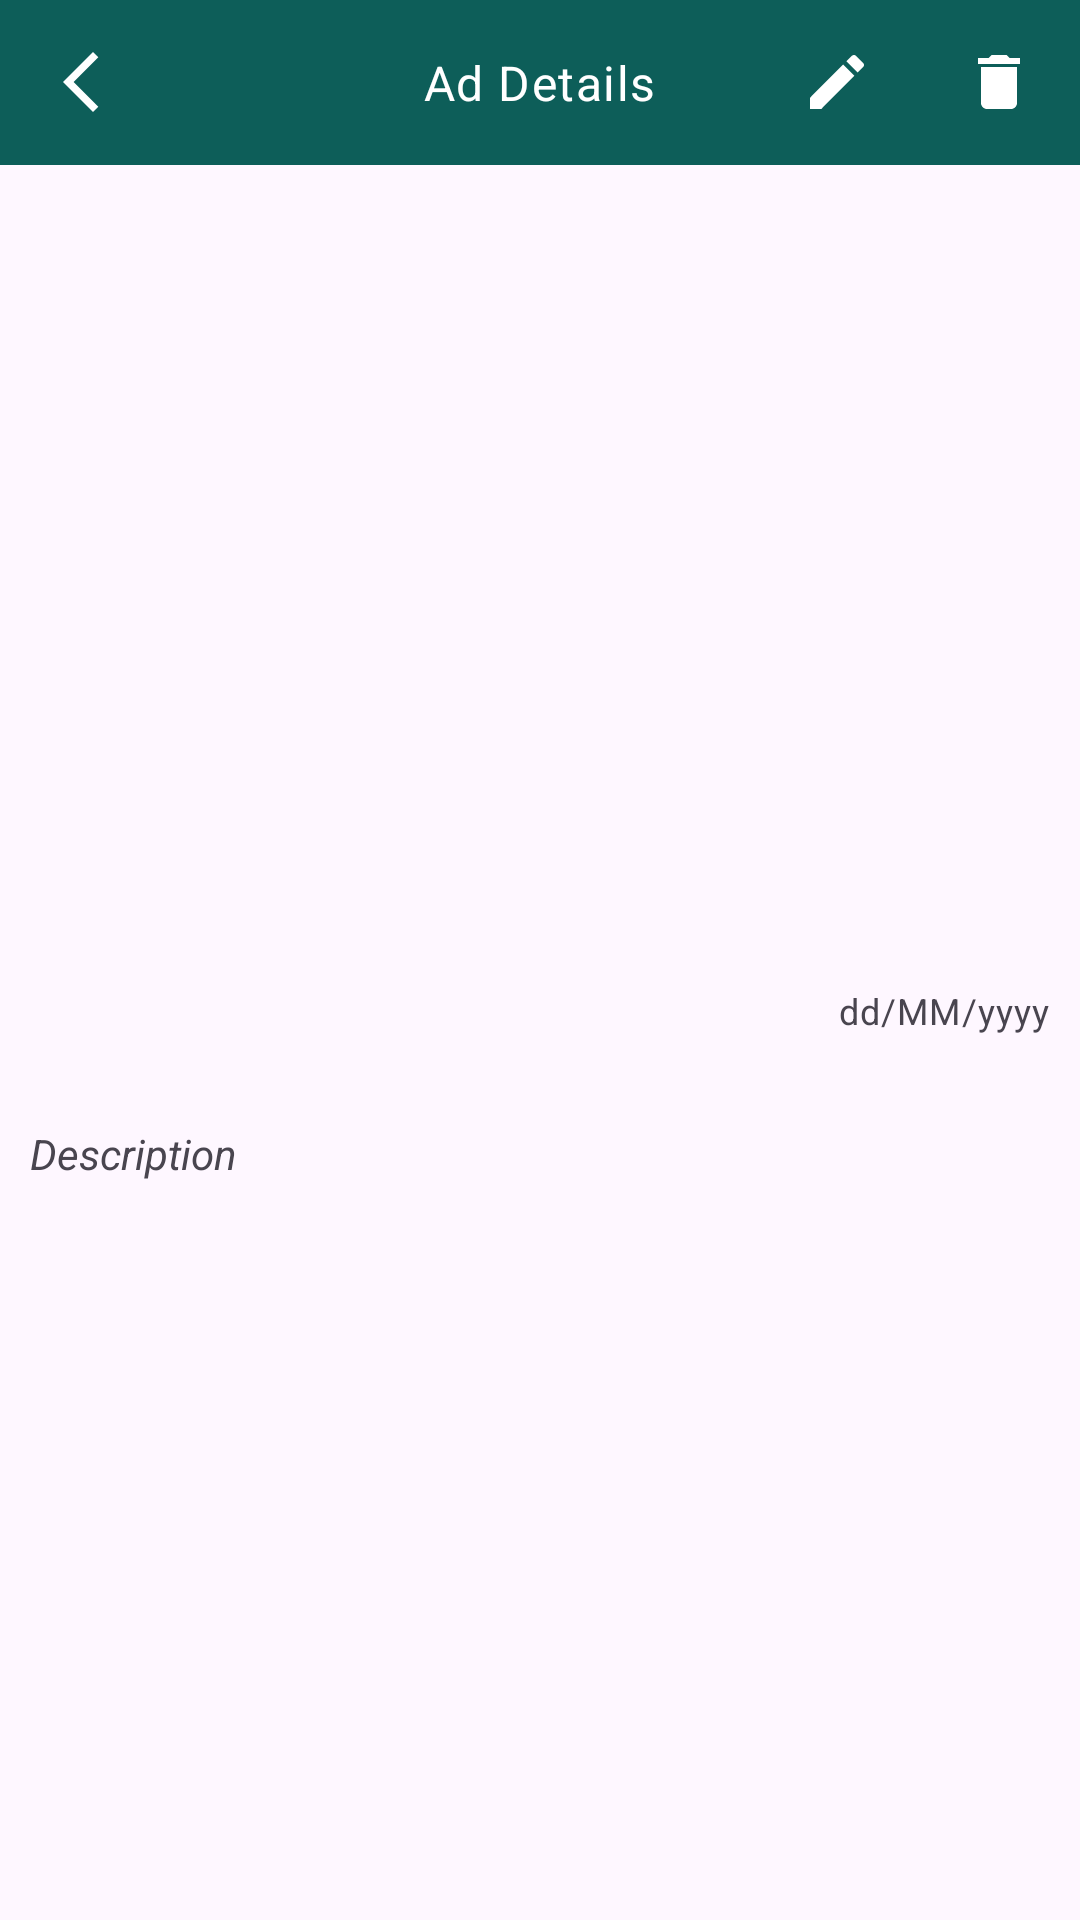

Point at icon controls on the screen. Image size 1080×1920, points as [x,y].
arrow back: [80,82]
delete: [999,82]
edit: [837,82]
